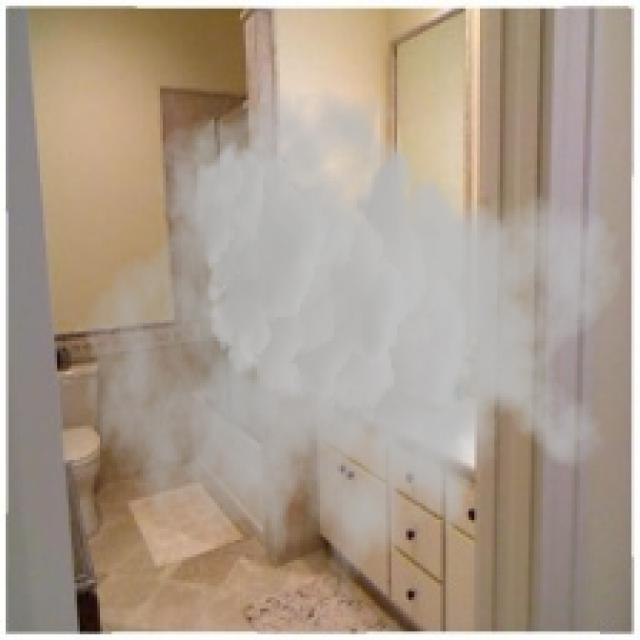smoke: (83, 72, 626, 617)
